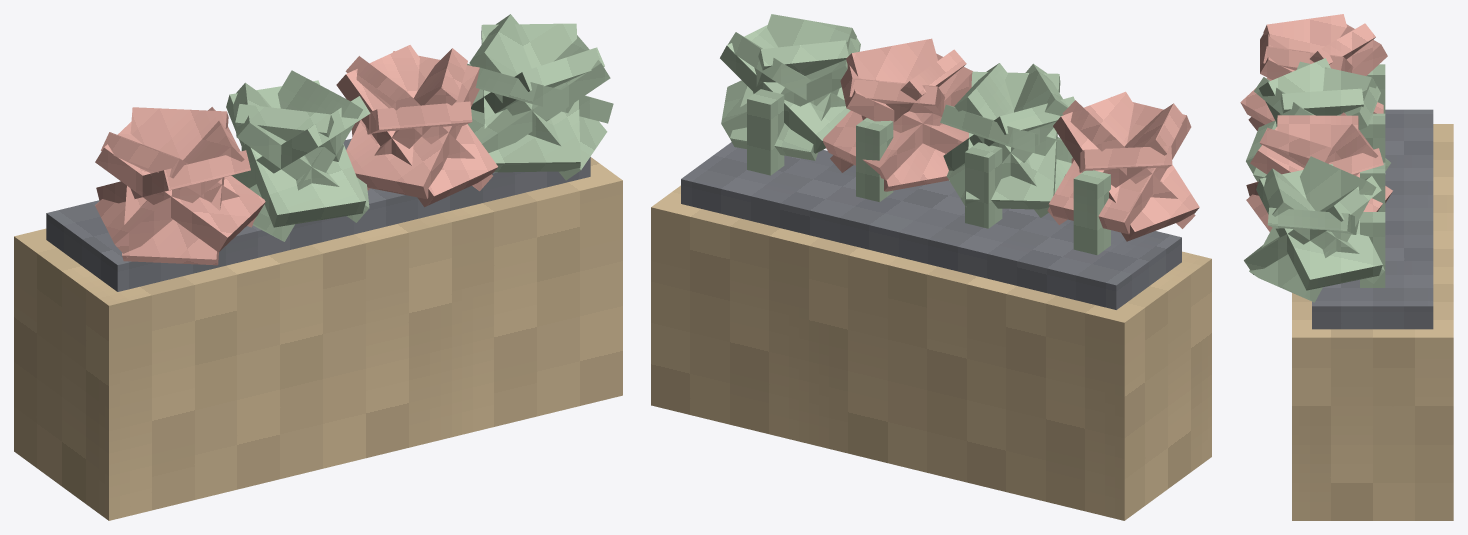
Rendered from pixel-modern-apartments-balcony-planter-66eb843a__29875.glb.
3 views of the same model, side by side, from view 1: azimuth 30°, elevation 25°; view 2: azimuth 150°, elevation 25°; view 3: azimuth 270°, elevation 25° (orthographic). The views are drawn at different scales.
Parts seen in each view (by area): view 1: balcony-planter; view 2: balcony-planter; view 3: balcony-planter.
Boxes of the visible parts, x1=… form: balcony-planter: x1=14, y1=14, x2=622, y2=520; balcony-planter: x1=651, y1=14, x2=1211, y2=520; balcony-planter: x1=1240, y1=14, x2=1453, y2=520.
Bounding box in the file's own units: 1 × 0.6805 × 0.4221.
4 materials, 4 textured.
